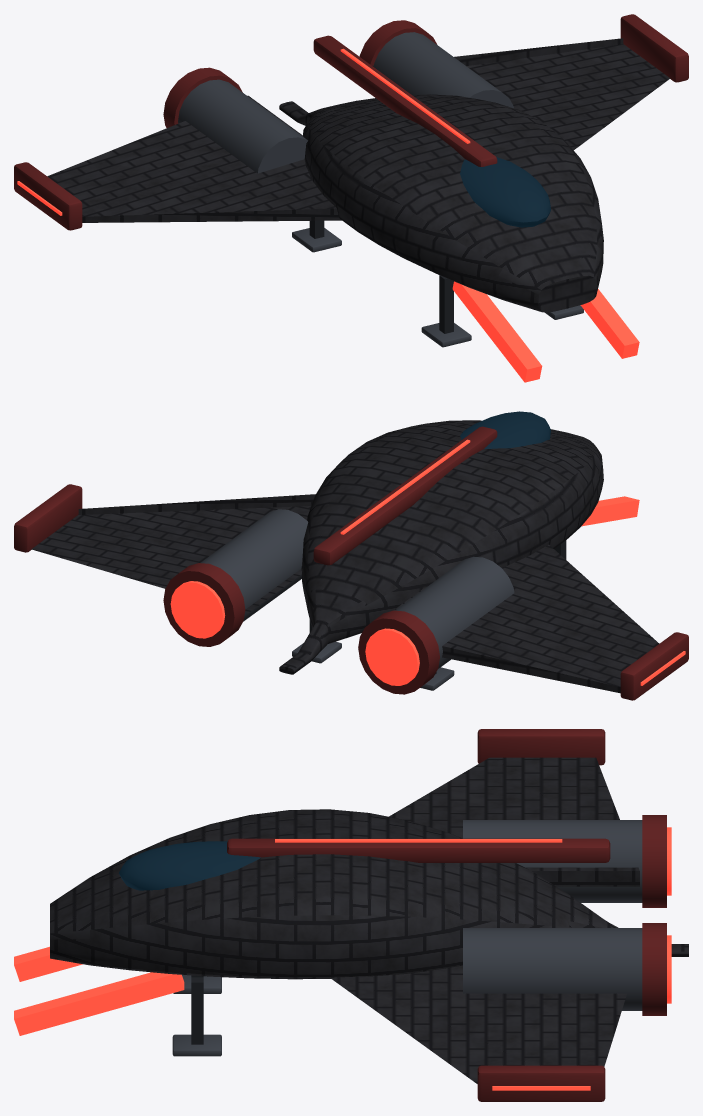
File: ship_dropship.glb
The picture shows the model from 3 angles, top to bottom: view 1: azimuth 30°, elevation 25°; view 2: azimuth 150°, elevation 25°; view 3: azimuth 270°, elevation 25°; orthographic projection. The views are drawn at different scales.
Visible parts, largest first — view 1: ship_dropship; view 2: ship_dropship; view 3: ship_dropship.
Boxes of the visible parts, bbox=[...] form: ship_dropship: bbox=[14, 14, 688, 382]; ship_dropship: bbox=[14, 411, 688, 700]; ship_dropship: bbox=[14, 729, 688, 1101].
Size of the model in its own units: 16.69 by 4 by 13.73.
Materials: 7 (1 with a texture image).
